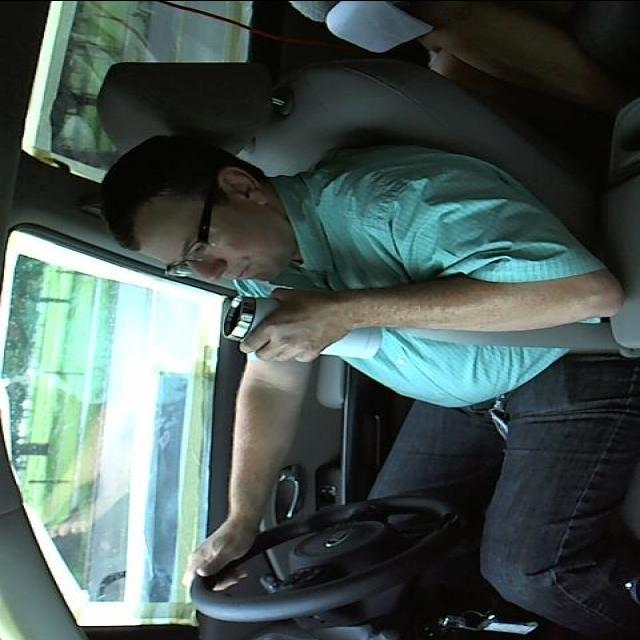drinking: (216, 295, 380, 361)
